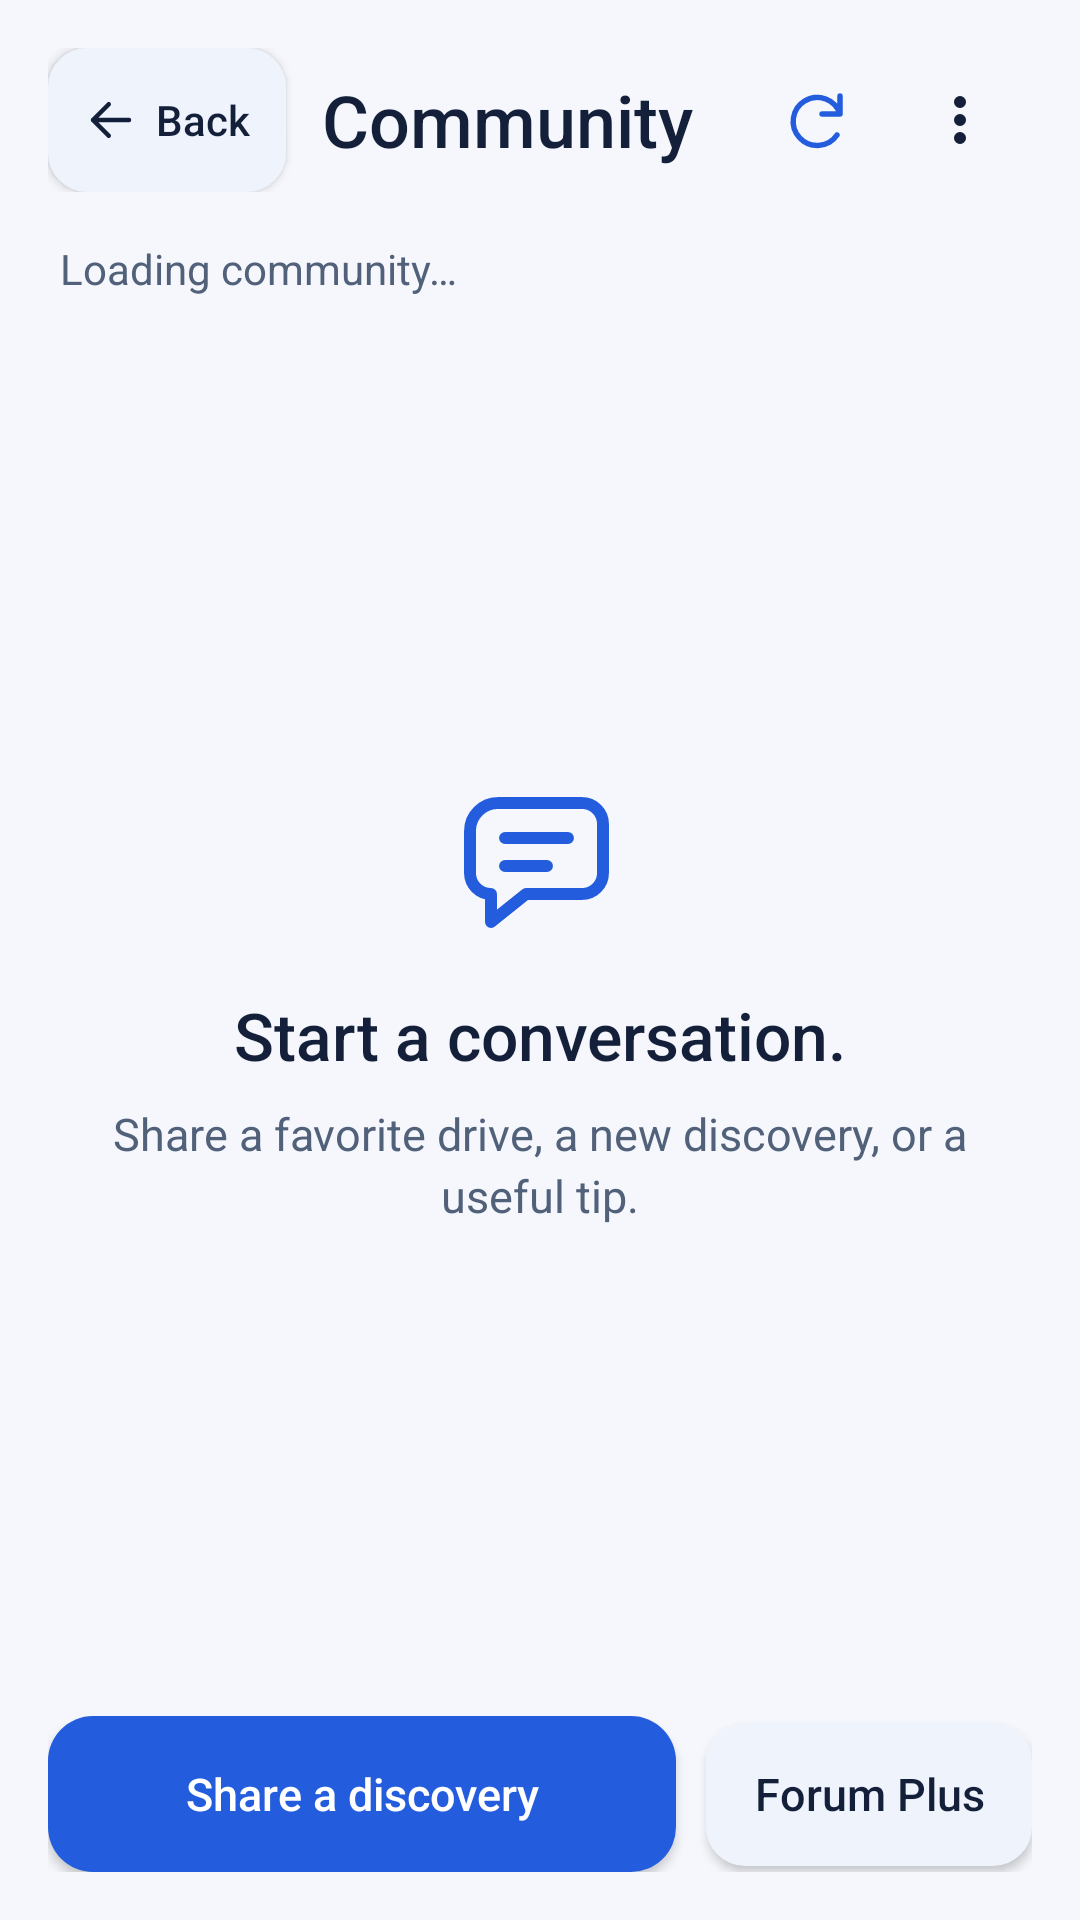

Named icons in this screenshot (1080 x 1920) and their centers, (x=x, y=y):
forum: (x=536, y=862)
